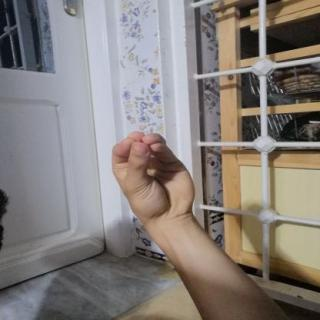HA: (94, 117, 216, 230)
